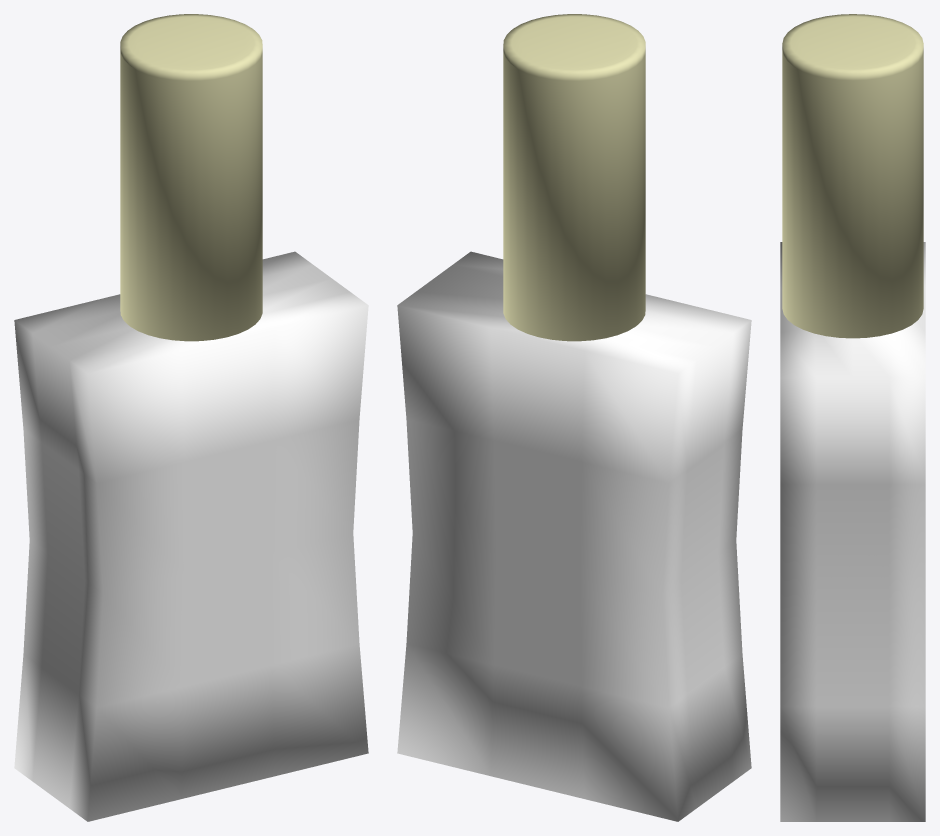
The model's file is parfüm.glb.
3 renders of one model, left to right at view 1: azimuth 30°, elevation 25°; view 2: azimuth 150°, elevation 25°; view 3: azimuth 270°, elevation 25°, orthographic.
Parts seen in each view (by area): view 1: bottle.001, cap; view 2: bottle.001, cap; view 3: bottle.001, cap.
Part boxes in pixels (box(x1,y1,x2,y2)): bottle.001: box(14, 251, 368, 821); cap: box(120, 14, 262, 341); bottle.001: box(397, 251, 751, 821); cap: box(503, 14, 645, 341); bottle.001: box(780, 242, 925, 821); cap: box(782, 14, 923, 338).
Size of the model in its own units: 1.2 by 2.92 by 0.5416.
